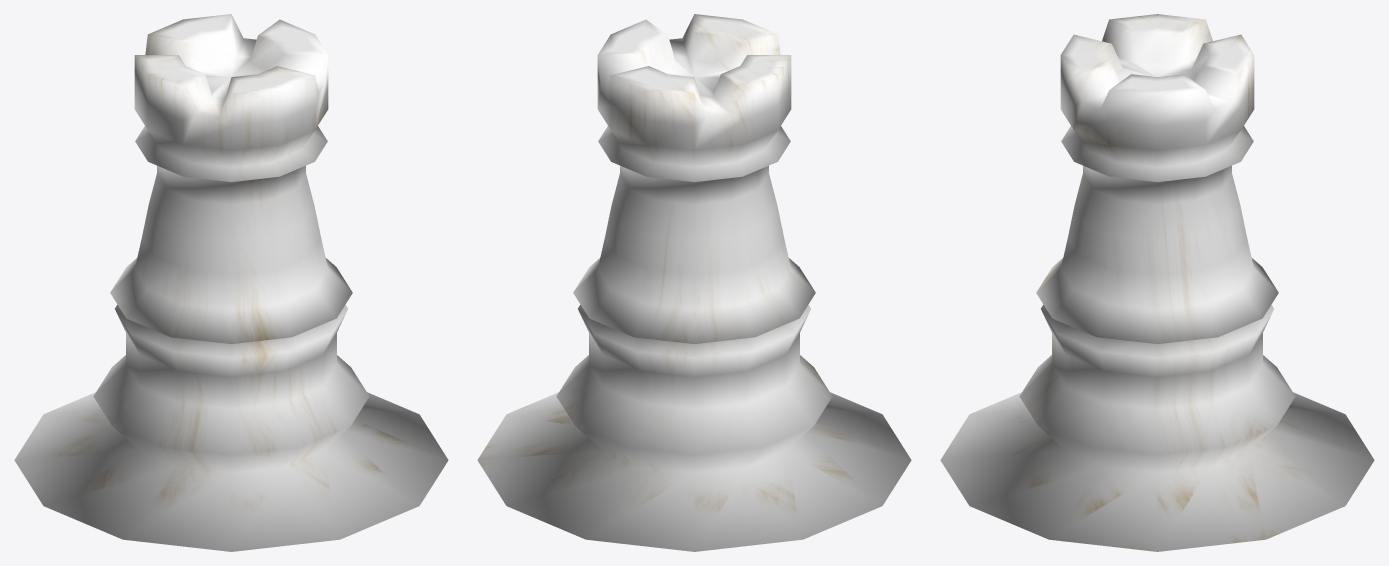
File: White Rook.fbx
3 renders of one model, left to right at view 1: azimuth 30°, elevation 25°; view 2: azimuth 150°, elevation 25°; view 3: azimuth 270°, elevation 25°, orthographic.
Visible parts, largest first — view 1: White_Rook:Rook_Piece:cylinder; view 2: White_Rook:Rook_Piece:cylinder; view 3: White_Rook:Rook_Piece:cylinder.
Part boxes in pixels (left/top/right/bottom): White_Rook:Rook_Piece:cylinder: left=14, top=14, right=448, bottom=551; White_Rook:Rook_Piece:cylinder: left=477, top=14, right=911, bottom=551; White_Rook:Rook_Piece:cylinder: left=940, top=14, right=1374, bottom=551.
Bounding box in the file's own units: 4.12 × 4.24 × 4.12.
Materials: 1 (1 with a texture image).
